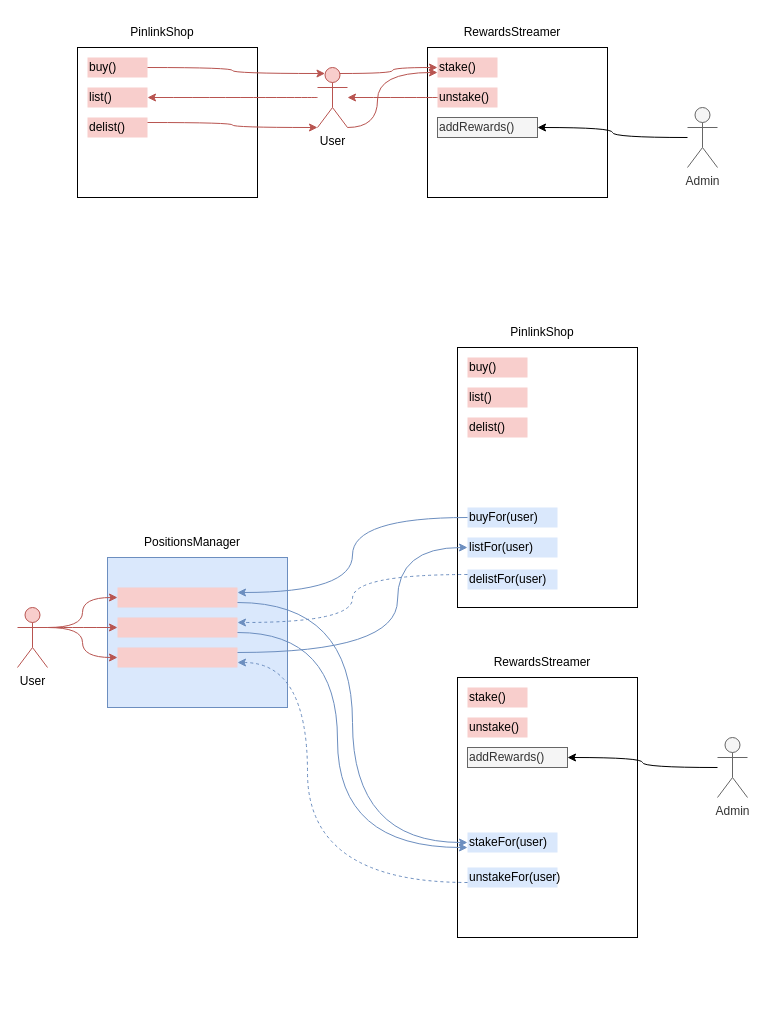
The diagram is 767 pixels wide and 1024 high, and some of its shapes have lost their labels. The centre of each missing label's shape, as x and y in pixels:
"buyAndStake()" goes at point (177, 597).
"delistAndStake()" goes at point (177, 627).
"unstakeAndList()" goes at point (177, 657).
